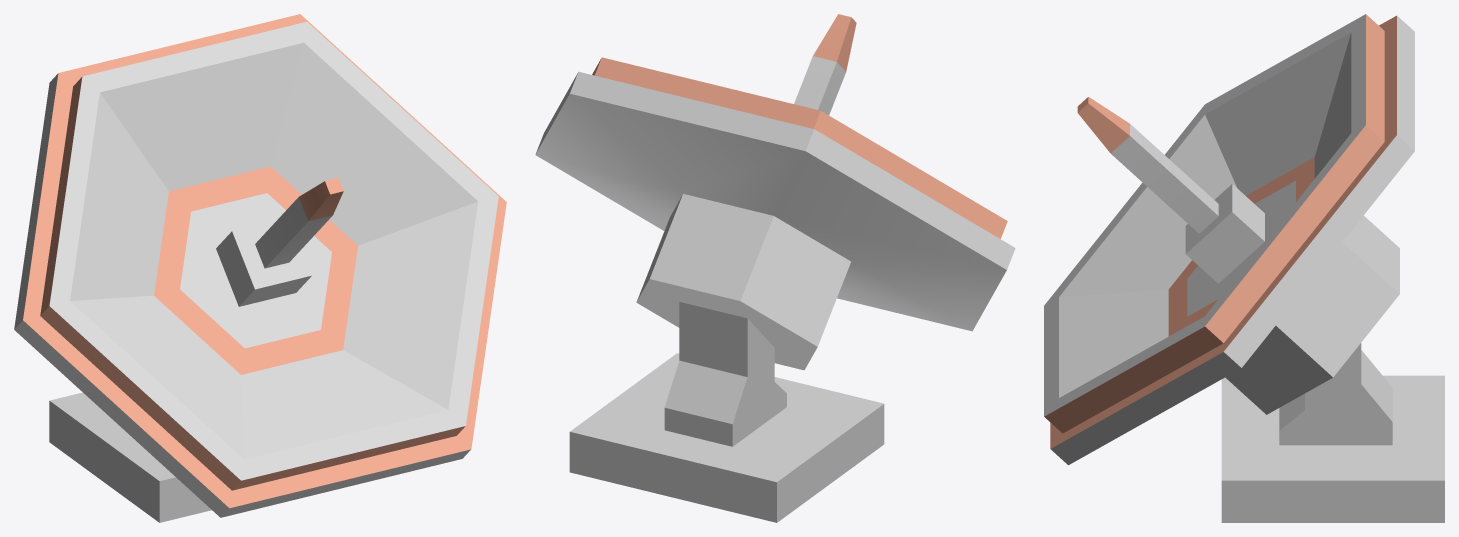
The model's file is satelliteDishAntenna.fbx.
3 views of the same model, side by side, from view 1: azimuth 30°, elevation 25°; view 2: azimuth 150°, elevation 25°; view 3: azimuth 270°, elevation 25° (orthographic). The views are drawn at different scales.
Visible parts, largest first — view 1: satelliteDishAntenna; view 2: satelliteDishAntenna; view 3: satelliteDishAntenna.
Boxes of the visible parts, x1,y1,x2,y2 form: satelliteDishAntenna: (14,14,506,522); satelliteDishAntenna: (535,14,1015,522); satelliteDishAntenna: (1044,14,1444,522).
Bounding box in the file's own units: 858 × 671 × 608.
